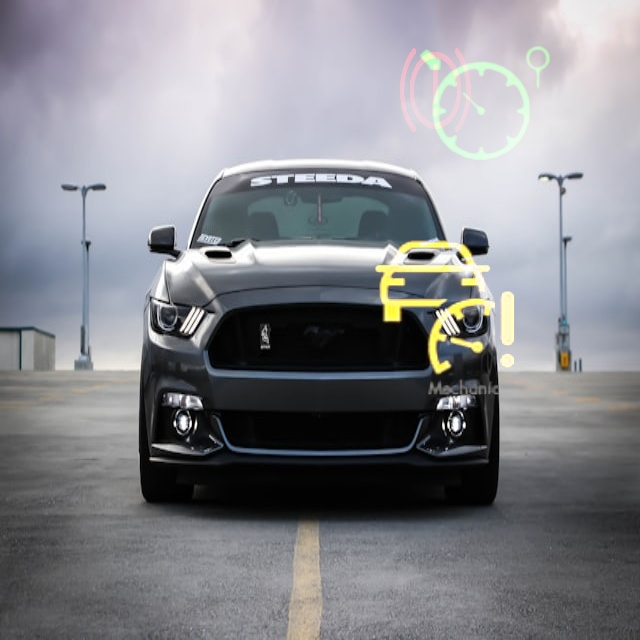symbol: (387, 8, 582, 203), (351, 214, 539, 402), (364, 16, 506, 158)
